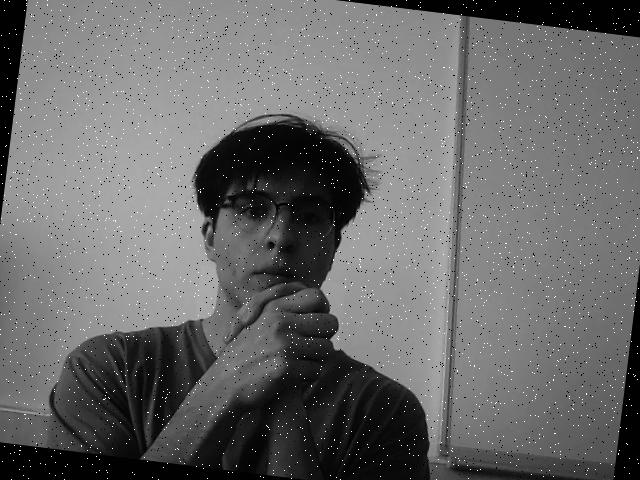friend: (186, 279, 340, 432)
